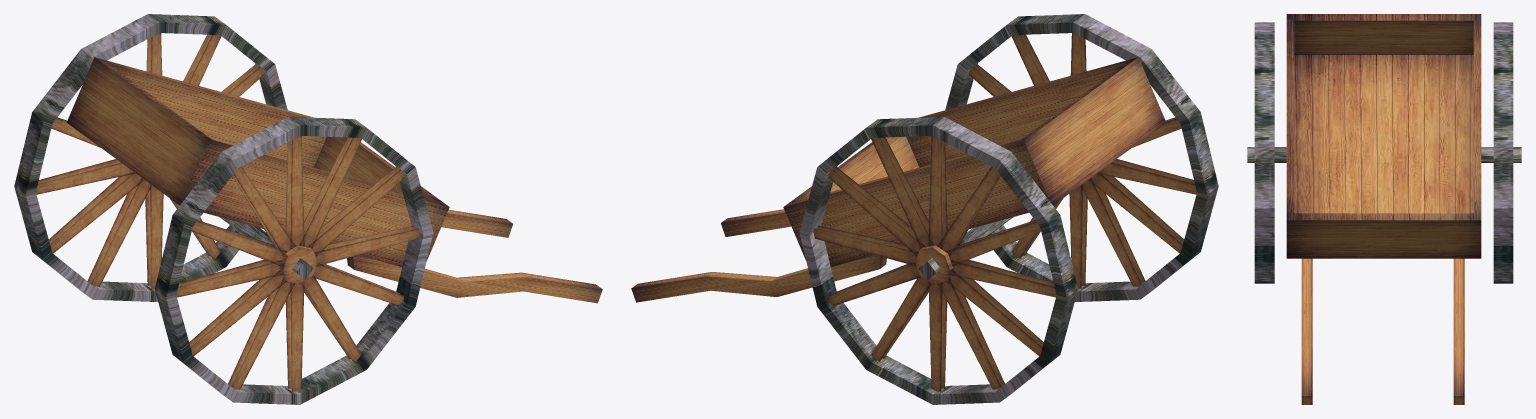
Rendered from cartLoPoly.obj.
3 renders of one model, left to right at view 1: azimuth 30°, elevation 25°; view 2: azimuth 150°, elevation 25°; view 3: azimuth 270°, elevation 25°, orthographic. The views are drawn at different scales.
Visible parts, largest first — view 1: floor, fadewood; view 2: floor, fadewood; view 3: floor, fadewood.
Part boxes in pixels (box(x1,y1,x2,y2)): floor: box(36, 33, 602, 391); fadewood: box(14, 14, 433, 404); floor: box(631, 33, 1196, 391); fadewood: box(799, 14, 1218, 404); floor: box(1286, 14, 1481, 404); fadewood: box(1247, 22, 1521, 283).
Bounding box in the file's own units: 18.92 × 10.9 × 11.4.
Materials: 2 (2 with a texture image).
